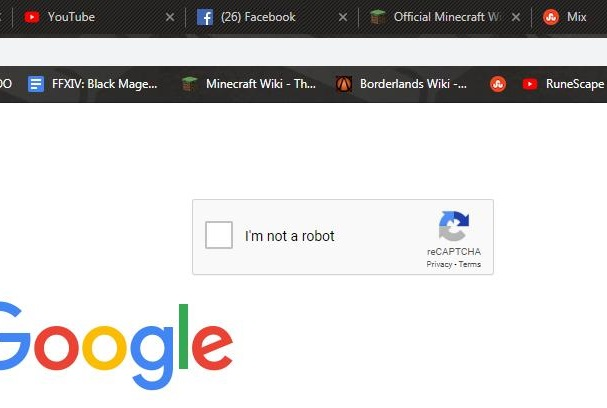captcha: (205, 221, 339, 249)
